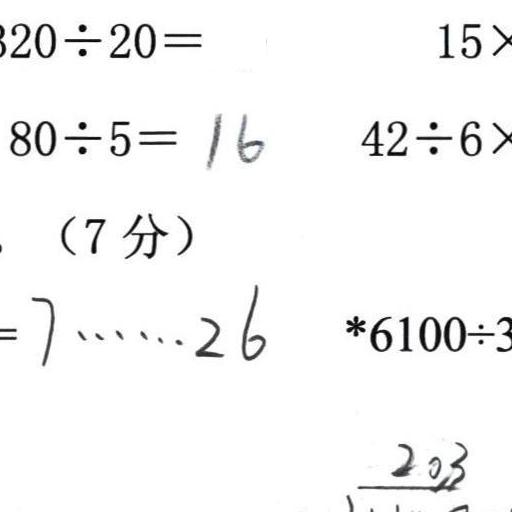ans: (26, 284, 266, 367), (199, 105, 263, 169)
